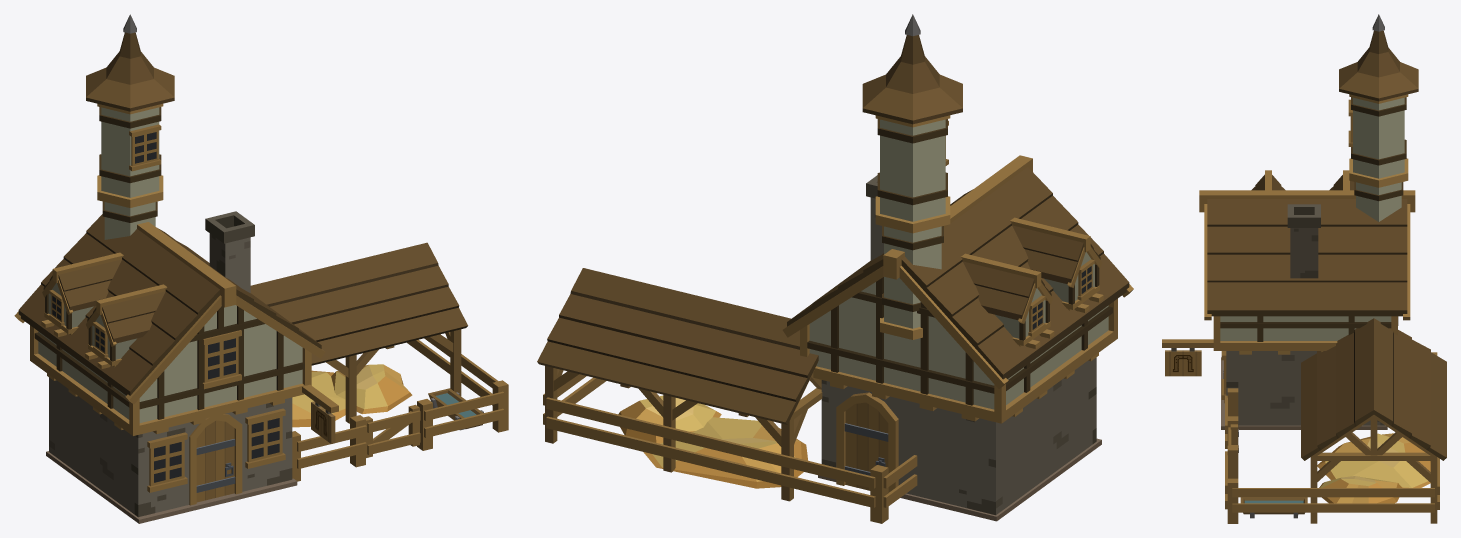
Rendered from SF_Bld_House_Stables_01.fbx.
3 renders of one model, left to right at view 1: azimuth 30°, elevation 25°; view 2: azimuth 150°, elevation 25°; view 3: azimuth 270°, elevation 25°, orthographic. The views are drawn at different scales.
Parts seen in each view (by area): view 1: SF_Bld_House_Stables_01; view 2: SF_Bld_House_Stables_01; view 3: SF_Bld_House_Stables_01.
Boxes of the visible parts, left/top/right/bottom form: SF_Bld_House_Stables_01: left=14, top=14, right=508, bottom=523; SF_Bld_House_Stables_01: left=537, top=14, right=1133, bottom=523; SF_Bld_House_Stables_01: left=1162, top=14, right=1446, bottom=523.
Bounding box in the file's own units: 20.01 × 20.69 × 13.97.
